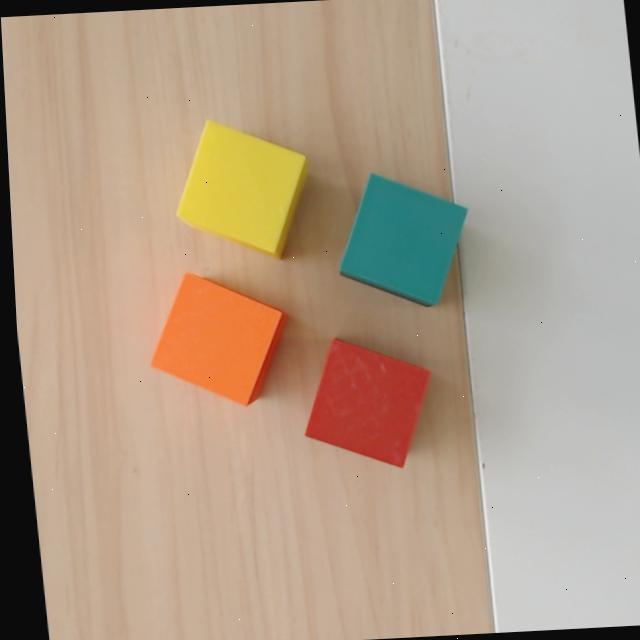Kubus-Hijau-505050: (335, 173, 470, 309)
Kubus-Jingga-505050: (147, 269, 293, 409)
Kubus-Kuning-505050: (173, 120, 314, 258)
Kubus-Merah-505050: (301, 338, 435, 468)
